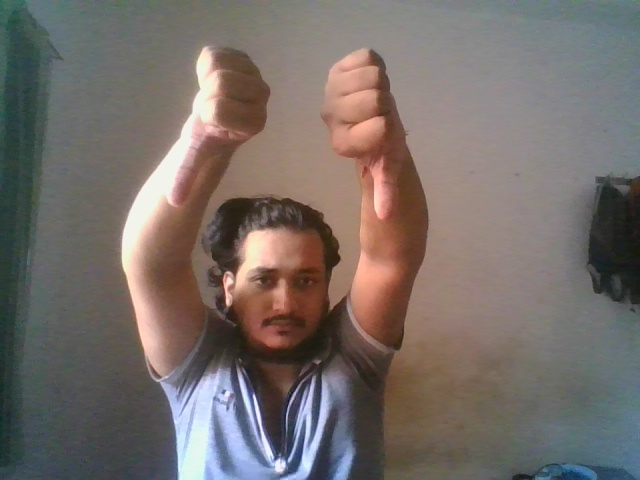ThumbsDown: (162, 45, 271, 210), (319, 47, 407, 220)
